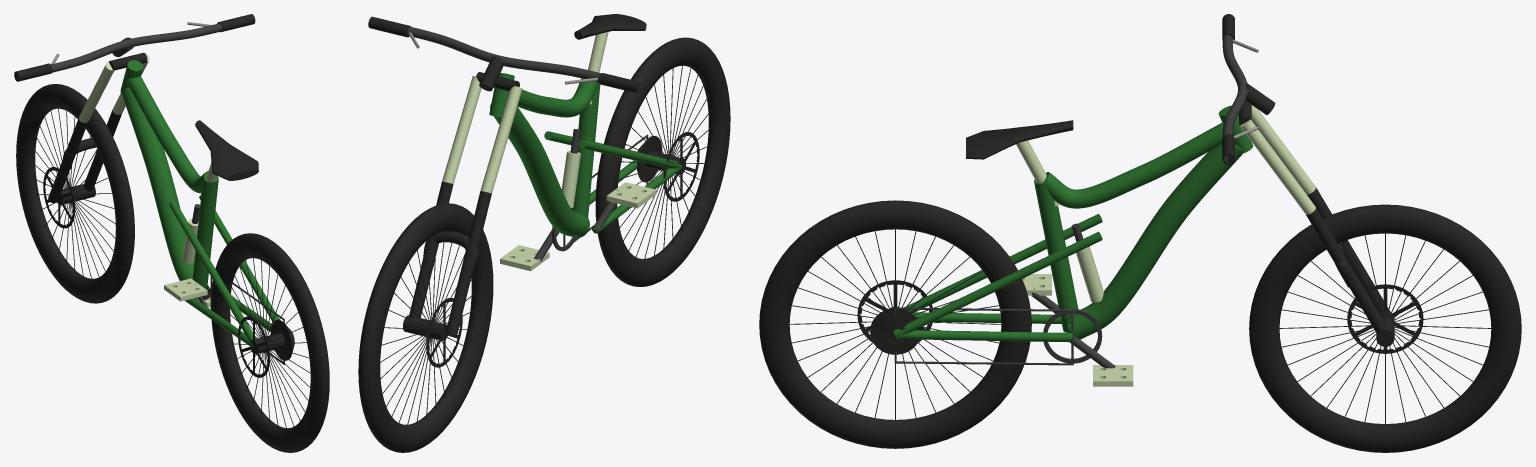
File: mountain_bike__e3cd36c670cd.glb
3 renders of one model, left to right at view 1: azimuth 30°, elevation 25°; view 2: azimuth 150°, elevation 25°; view 3: azimuth 270°, elevation 25°, orthographic. The views are drawn at different scales.
Parts seen in each view (by area): view 1: tire, tire.001, down_tube, top_tube, seat, bar, seat_tube, seat_stay, fork_lower, seat_stay.001, stanchion, pedal (+9 smaller); view 2: tire.001, tire, down_tube, bar, seat_tube, fork_lower, top_tube, stanchion, stanchion.001, fork_lower.001, seat, seat_stay (+10 smaller); view 3: tire.001, tire, down_tube, top_tube, seat_tube, seat_stay.001, seat, chain_stay.001, fork_lower.001, seat_stay, stanchion.001, stanchion (+7 smaller).
Part boxes in pixels (left/top/right/bottom): tire: left=211, top=233, right=329, bottom=452; tire.001: left=16, top=84, right=134, bottom=303; down_tube: left=121, top=87, right=208, bottom=298; top_tube: left=125, top=76, right=208, bottom=193; seat: left=195, top=120, right=258, bottom=180; bar: left=16, top=23, right=221, bottom=80; seat_tube: left=192, top=176, right=218, bottom=289; seat_stay: left=169, top=201, right=256, bottom=346; fork_lower: left=48, top=118, right=87, bottom=203; seat_stay.001: left=199, top=195, right=279, bottom=322; stanchion: left=79, top=62, right=113, bottom=123; pedal: left=164, top=278, right=207, bottom=301; tire.001: left=358, top=203, right=493, bottom=452; tire: left=595, top=37, right=730, bottom=286; down_tube: left=490, top=103, right=589, bottom=237; bar: left=407, top=26, right=641, bottom=91; seat_tube: left=571, top=82, right=600, bottom=217; fork_lower: left=445, top=191, right=491, bottom=335; top_tube: left=517, top=78, right=598, bottom=117; stanchion: left=480, top=86, right=522, bottom=193; stanchion.001: left=442, top=76, right=481, bottom=183; fork_lower.001: left=409, top=181, right=453, bottom=318; seat: left=574, top=14, right=646, bottom=39; seat_stay: left=578, top=139, right=682, bottom=168; tire.001: left=1249, top=204, right=1521, bottom=452; tire: left=759, top=200, right=1031, bottom=448; down_tube: left=1067, top=143, right=1242, bottom=339; top_tube: left=1043, top=123, right=1236, bottom=208; seat_tube: left=1034, top=179, right=1078, bottom=332; seat_stay.001: left=893, top=231, right=1102, bottom=336; seat: left=966, top=120, right=1073, bottom=159; chain_stay.001: left=895, top=330, right=1072, bottom=342; fork_lower.001: left=1306, top=207, right=1387, bottom=333; seat_stay: left=904, top=214, right=1102, bottom=313; stanchion.001: left=1240, top=119, right=1315, bottom=214; stanchion: left=1251, top=105, right=1315, bottom=194.
Bounding box in the file's own units: 0.7815 × 0.952 × 1.8.
